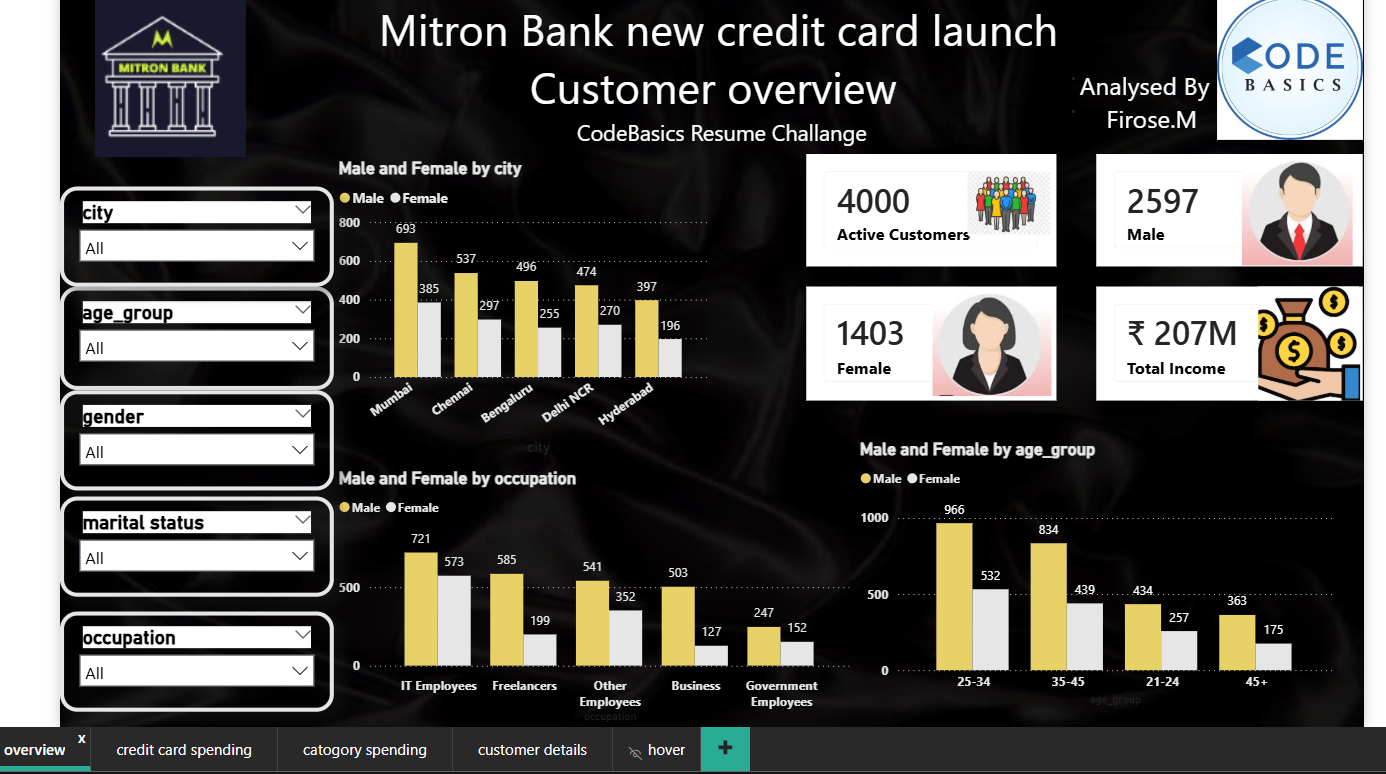

The page's visual inventory and layout, read from the dashboard file:
{"tool":"powerbi","page":{"name":"overview","canvas":[1280,720],"ordinal":0},"visuals":[{"type":"textbox","box":[0,0,1279.7,158.5],"z":0},{"type":"clusteredColumnChart","fields":{"Y":["_All_Measure.Male","_All_Measure.Female"],"Category":["dim_customers.city"]},"box":[268.6,160.2,372.1,297],"z":1000},{"type":"image","box":[0,0,216.9,160.2],"z":2000},{"type":"image","box":[1134.5,0,145.2,143.5],"z":3000},{"type":"textbox","box":[977.7,36.7,156.8,106.8],"z":4000},{"type":"slicer","fields":{"Values":["dim_customers.age_group"]},"box":[0,287,268.6,101.8],"z":5000},{"type":"clusteredColumnChart","fields":{"Y":["_All_Measure.Male","_All_Measure.Female"],"Category":["dim_customers.age_group"]},"box":[780.8,437.1,473.8,266.9],"z":6000},{"type":"clusteredColumnChart","fields":{"Y":["_All_Measure.Male","_All_Measure.Female"],"Category":["dim_customers.occupation"]},"box":[268.6,465.5,512.2,255.3],"z":7000},{"type":"cardVisual","fields":{"Data":["_All_Measure.Active Customers"]},"box":[732.4,156.8,245.3,110.1],"z":8000},{"type":"cardVisual","fields":{"Data":["_All_Measure.Male"]},"box":[1017.7,156.8,261.9,110.1],"z":9000},{"type":"cardVisual","fields":{"Data":["_All_Measure.Female"]},"box":[732.4,287,245.3,111.8],"z":10000},{"type":"cardVisual","fields":{"Data":["_All_Measure.Total_income"]},"box":[1017.7,287,261.9,111.8],"z":11000},{"type":"image","box":[855.9,193.5,116.8,300.3],"z":12000},{"type":"image","box":[1149.5,163.5,130.1,103.4],"z":13000},{"type":"image","box":[890.9,101.8,81.8,206.9],"z":14000},{"type":"image","box":[1172.9,287,106.8,111.8],"z":15000},{"type":"slicer","fields":{"Values":["dim_customers.gender"]},"box":[0,388.7,268.6,98.4],"z":16000},{"type":"slicer","fields":{"Values":["dim_customers.marital status"]},"box":[0,493.9,268.6,98.4],"z":17000},{"type":"slicer","fields":{"Values":["dim_customers.occupation"]},"box":[0,605.6,268.6,98.4],"z":18000},{"type":"slicer","fields":{"Values":["dim_customers.city"]},"box":[0,188.5,268.6,98.4],"z":19000}]}

Visuals, with their boxes on the page's 1280x720 design canvas (x1, y1, x2, y2). These are canvas units, not pixel positions in the 1386x774 screenshot, which may show the page scaled, cropped or inside an application window:
textbox: select_region(0, 0, 1280, 158)
clusteredColumnChart - _All_Measure.Male x _All_Measure.Female: select_region(269, 160, 641, 457)
image: select_region(0, 0, 217, 160)
image: select_region(1134, 0, 1280, 144)
textbox: select_region(978, 37, 1134, 144)
slicer - dim_customers.age_group: select_region(0, 287, 269, 389)
clusteredColumnChart - _All_Measure.Male x _All_Measure.Female: select_region(781, 437, 1255, 704)
clusteredColumnChart - _All_Measure.Male x _All_Measure.Female: select_region(269, 466, 781, 721)
cardVisual - _All_Measure.Active Customers: select_region(732, 157, 978, 267)
cardVisual - _All_Measure.Male: select_region(1018, 157, 1280, 267)
cardVisual - _All_Measure.Female: select_region(732, 287, 978, 399)
cardVisual - _All_Measure.Total_income: select_region(1018, 287, 1280, 399)
image: select_region(856, 194, 973, 494)
image: select_region(1150, 164, 1280, 267)
image: select_region(891, 102, 973, 309)
image: select_region(1173, 287, 1280, 399)
slicer - dim_customers.gender: select_region(0, 389, 269, 487)
slicer - dim_customers.marital status: select_region(0, 494, 269, 592)
slicer - dim_customers.occupation: select_region(0, 606, 269, 704)
slicer - dim_customers.city: select_region(0, 188, 269, 287)
